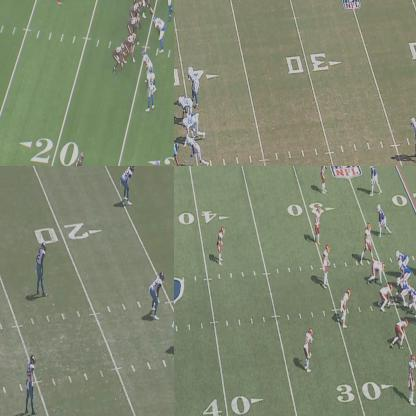CENTER: (393, 275, 405, 300), (141, 0, 154, 16), (174, 140, 181, 160)
DB: (36, 238, 47, 296), (122, 166, 136, 205), (27, 354, 36, 408), (406, 354, 415, 405), (303, 327, 312, 374), (147, 68, 155, 112), (189, 68, 200, 95), (319, 166, 328, 193), (218, 224, 224, 263), (411, 115, 415, 161)
LB: (150, 272, 164, 318), (186, 135, 205, 165), (340, 288, 352, 328), (324, 242, 332, 285), (313, 204, 322, 242), (141, 48, 152, 70)
SKILL: (377, 205, 389, 236), (69, 148, 88, 165), (127, 34, 139, 60), (370, 166, 381, 194), (114, 41, 124, 70)
